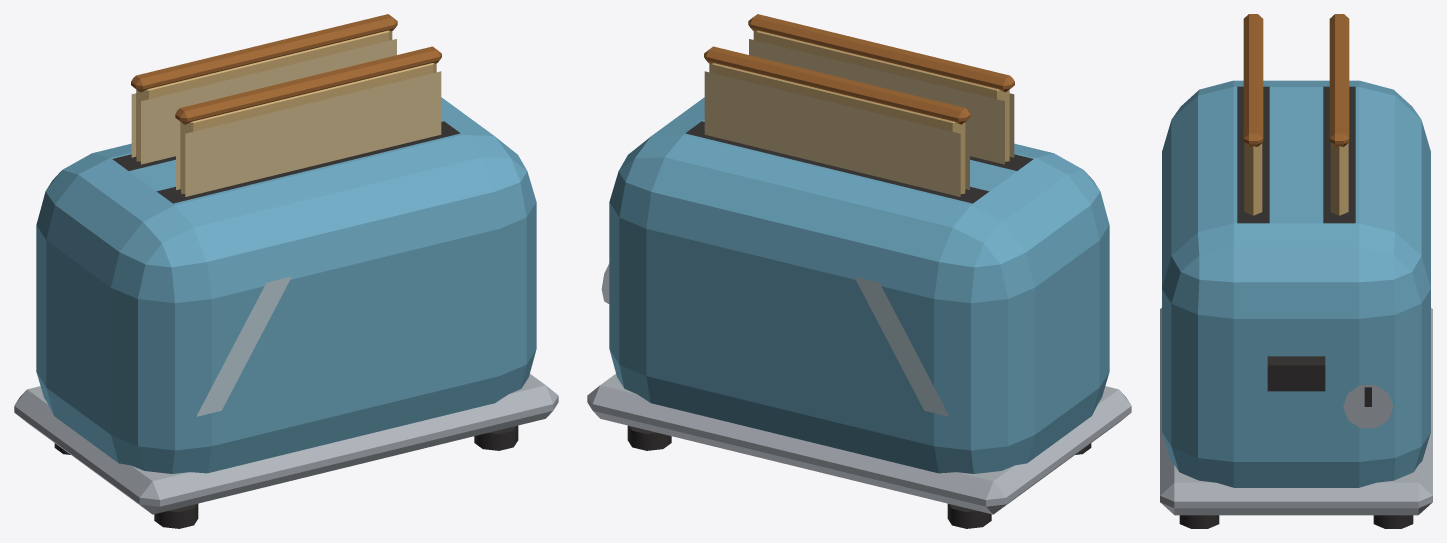
Rendered from kitchen-prop1.glb.
3 renders of one model, left to right at view 1: azimuth 30°, elevation 25°; view 2: azimuth 150°, elevation 25°; view 3: azimuth 270°, elevation 25°, orthographic. The views are drawn at different scales.
Visible parts, largest first — view 1: kitchen-prop1; view 2: kitchen-prop1; view 3: kitchen-prop1.
Boxes of the visible parts, x1=… form: kitchen-prop1: x1=14, y1=14, x2=558, y2=528; kitchen-prop1: x1=587, y1=14, x2=1131, y2=528; kitchen-prop1: x1=1160, y1=14, x2=1432, y2=528.
Bounding box in the file's own units: 1.38 × 1.14 × 0.76.
